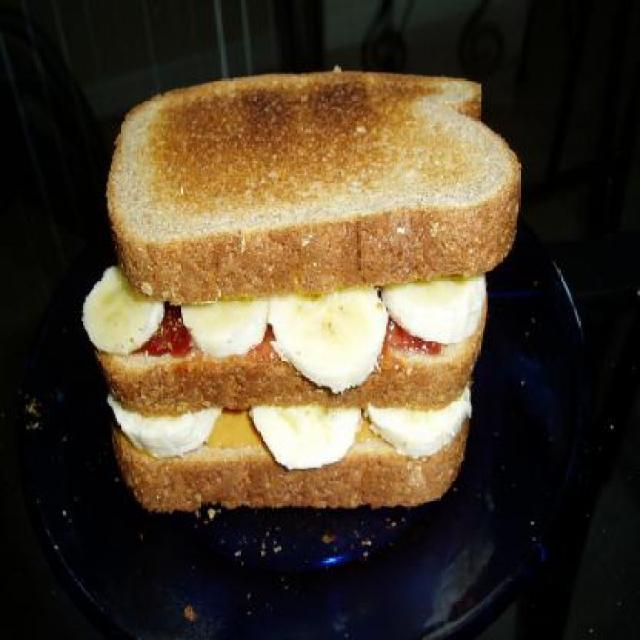Bread: (96, 67, 518, 344), (96, 283, 487, 420), (117, 408, 474, 510)
